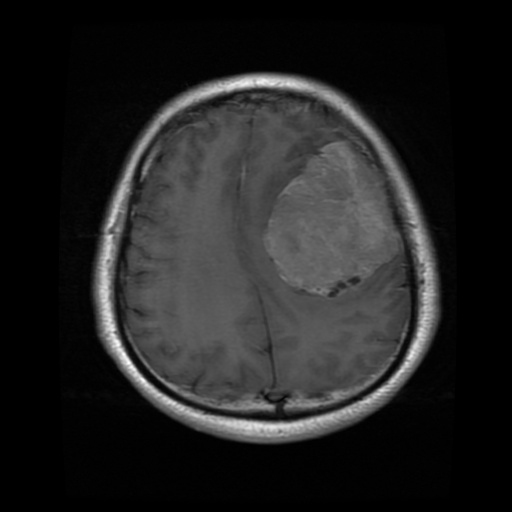meningioma: (264, 141, 401, 296)
